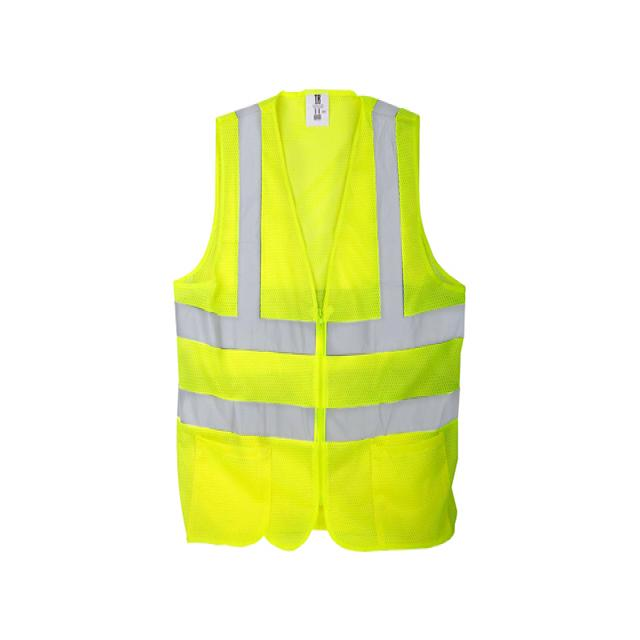Reflective-Jacket: (156, 84, 474, 563)
